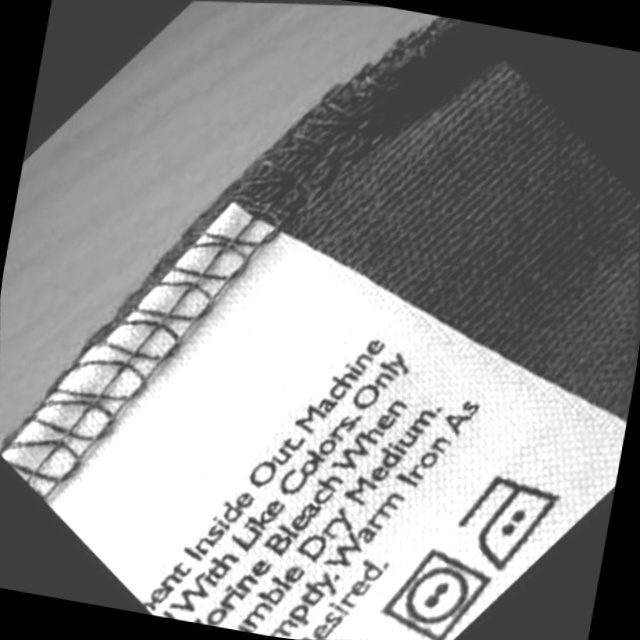iron_medium: (444, 457, 582, 586)
tumble_dry_medium: (368, 532, 510, 640)
